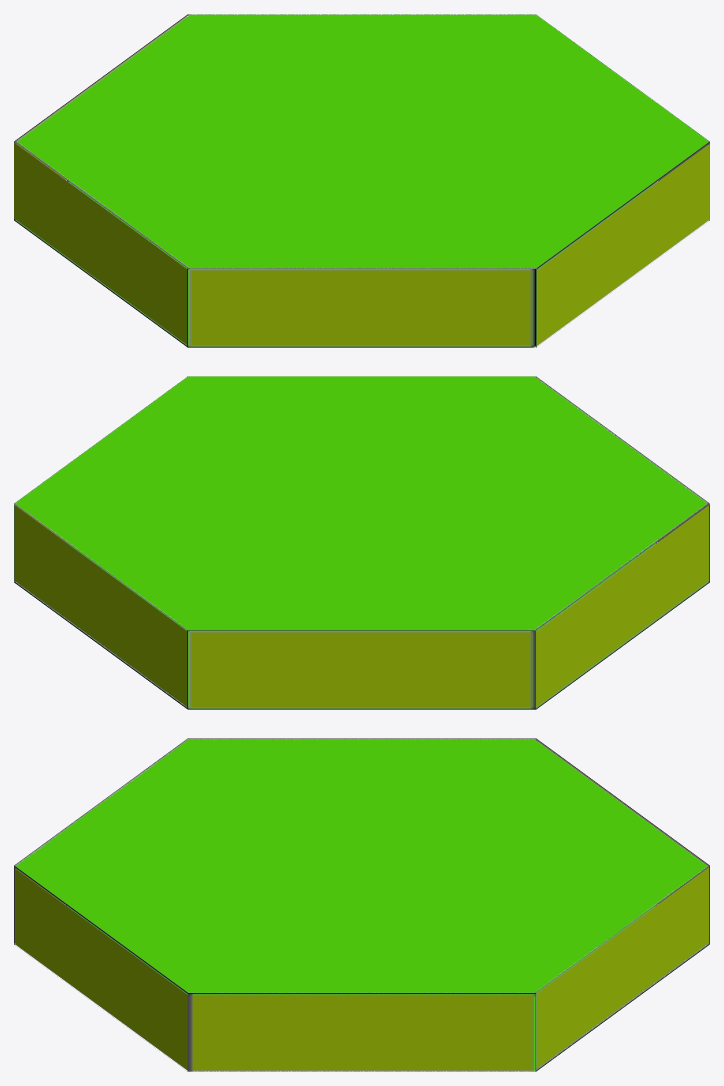
Rendered from hextile.FBX.
The picture shows the model from 3 angles, top to bottom: view 1: azimuth 30°, elevation 25°; view 2: azimuth 150°, elevation 25°; view 3: azimuth 270°, elevation 25°; orthographic projection.
Parts seen in each view (by area): view 1: Cylinder; view 2: Cylinder; view 3: Cylinder.
Part boxes in pixels (bbox=[...]): Cylinder: bbox=[14, 14, 709, 347]; Cylinder: bbox=[14, 376, 709, 709]; Cylinder: bbox=[14, 738, 709, 1071].
Bounding box in the file's own units: 173 × 25 × 200.
